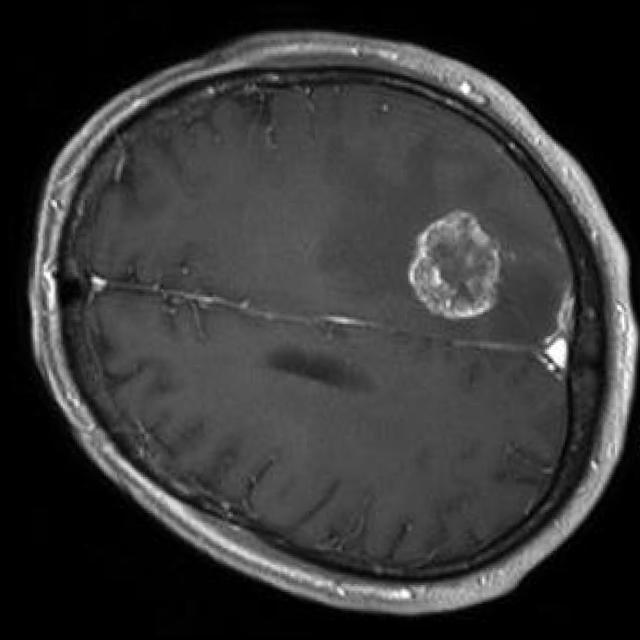Tumor: (410, 207, 498, 315)
